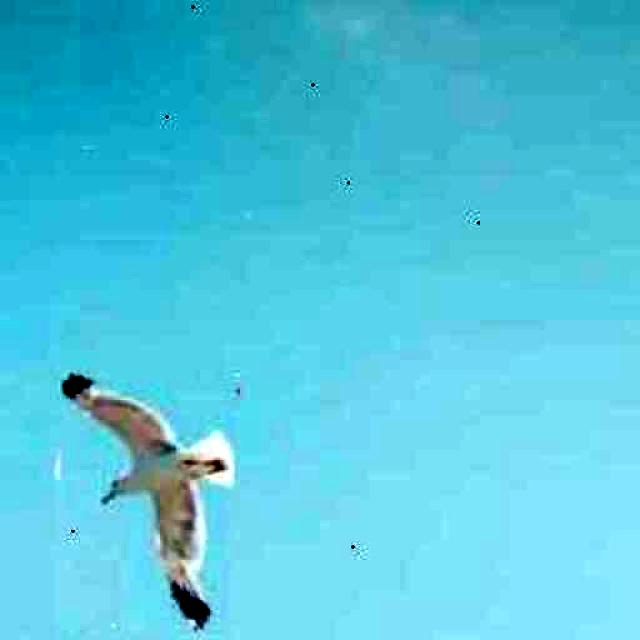airplane: (54, 371, 238, 632)
